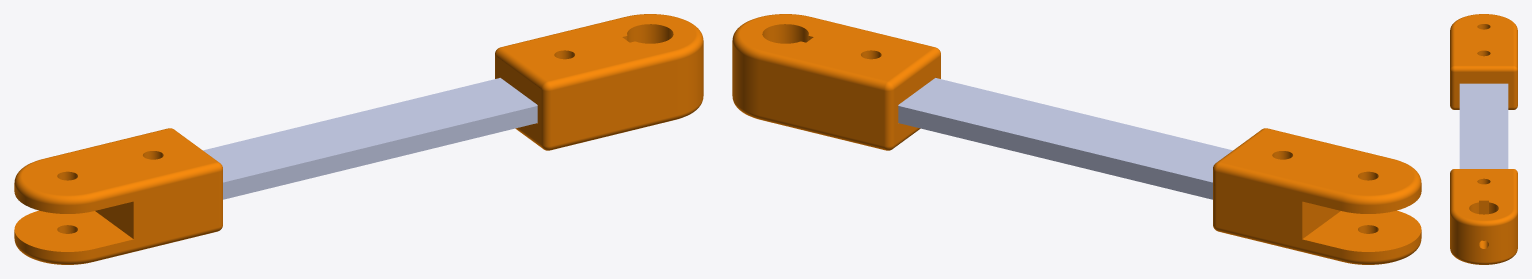
The model's file is P_ARM2.glb.
The picture shows the model from 3 angles, left to right: view 1: azimuth 30°, elevation 25°; view 2: azimuth 150°, elevation 25°; view 3: azimuth 270°, elevation 25°; orthographic projection. The views are drawn at different scales.
Visible parts, largest first — view 1: P_ARM2; view 2: P_ARM2; view 3: P_ARM2.
Boxes of the visible parts, bbox=[...] form: P_ARM2: bbox=[14, 14, 703, 264]; P_ARM2: bbox=[732, 14, 1421, 264]; P_ARM2: bbox=[1450, 14, 1517, 264].
Size of the model in its own units: 0.205 by 0.02 by 0.028.
